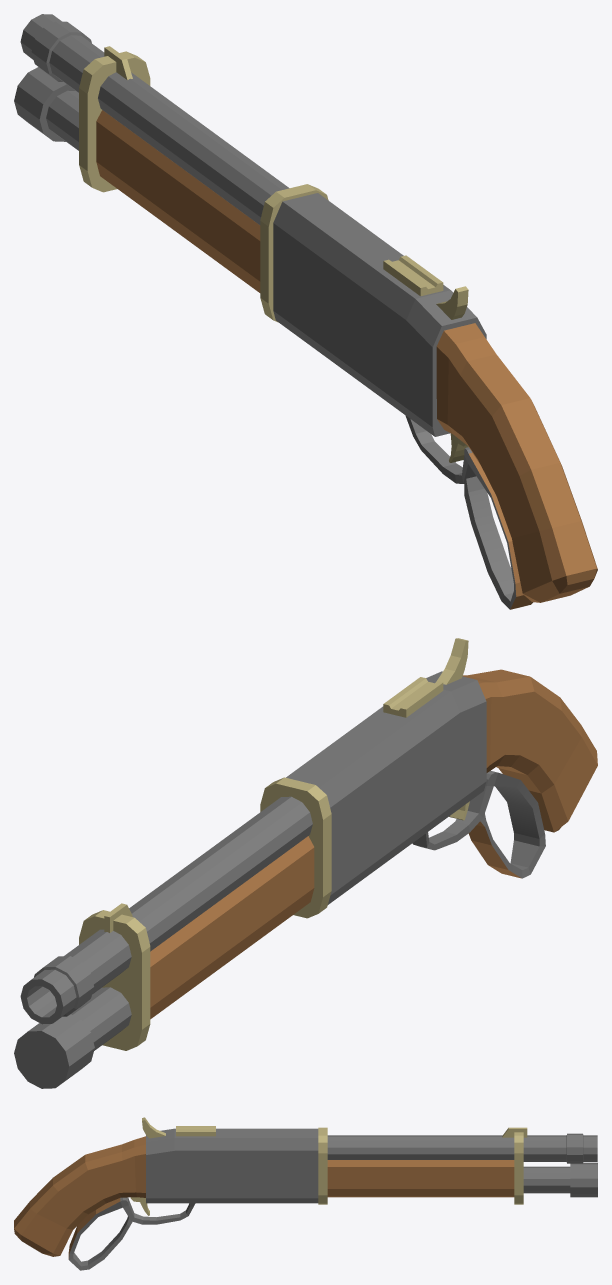
Rendered from Lever-Shotgun.fbx.
3 renders of one model, top to bottom at view 1: azimuth 30°, elevation 25°; view 2: azimuth 150°, elevation 25°; view 3: azimuth 270°, elevation 25°, orthographic. The views are drawn at different scales.
Visible parts, largest first — view 1: Shotgun_C.003; view 2: Shotgun_C.003; view 3: Shotgun_C.003.
Boxes of the visible parts, <box> form: Shotgun_C.003: <box>14,14,597,609</box>; Shotgun_C.003: <box>14,638,597,1088</box>; Shotgun_C.003: <box>14,1117,597,1270</box>.
Size of the model in its own units: 55.3 by 232 by 823.
